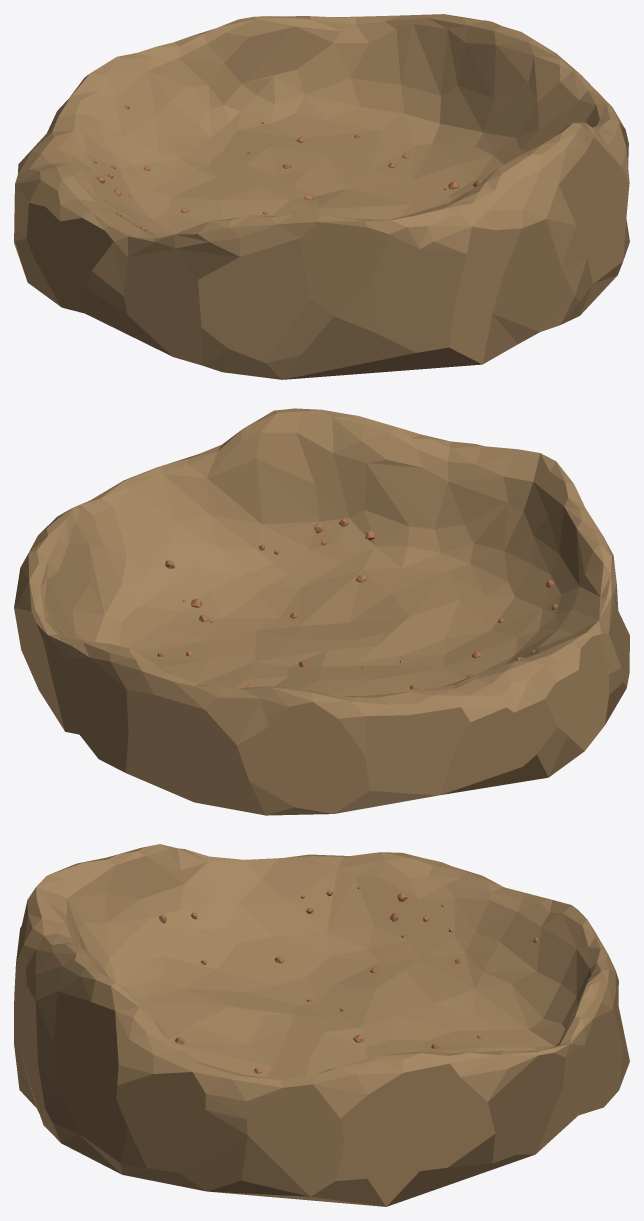
The model's file is training03-rock.fbx.
3 views of the same model, one above another, from view 1: azimuth 30°, elevation 25°; view 2: azimuth 150°, elevation 25°; view 3: azimuth 270°, elevation 25° (orthographic).
Parts seen in each view (by area): view 1: Icosphere, Icosphere.001; view 2: Icosphere, Icosphere.001; view 3: Icosphere, Icosphere.001.
Boxes of the visible parts, <box> form: Icosphere: <box>14,14,629,379</box>; Icosphere.001: <box>119,95,520,238</box>; Icosphere: <box>14,408,629,815</box>; Icosphere.001: <box>95,543,558,696</box>; Icosphere: <box>14,844,629,1206</box>; Icosphere.001: <box>122,901,564,1079</box>.
Bounding box in the file's own units: 21352 × 6590 × 20795.
